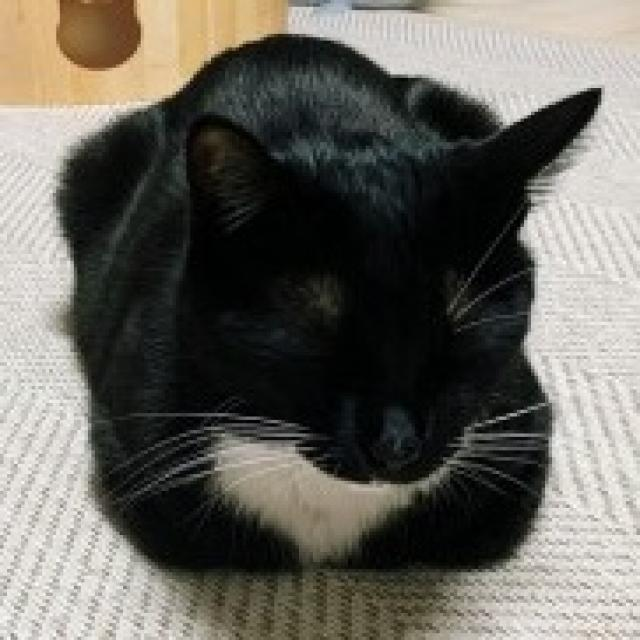cat: (48, 30, 608, 578)
